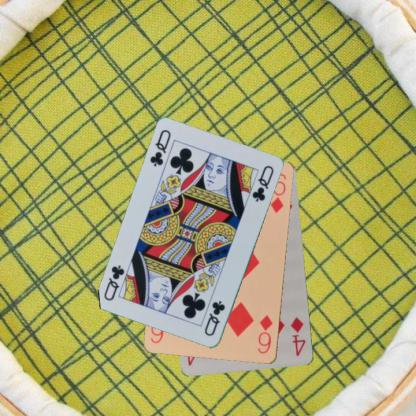4d: (288, 314, 308, 358)
6d: (255, 312, 274, 356)
Qc: (201, 298, 226, 338), (148, 127, 172, 168)
